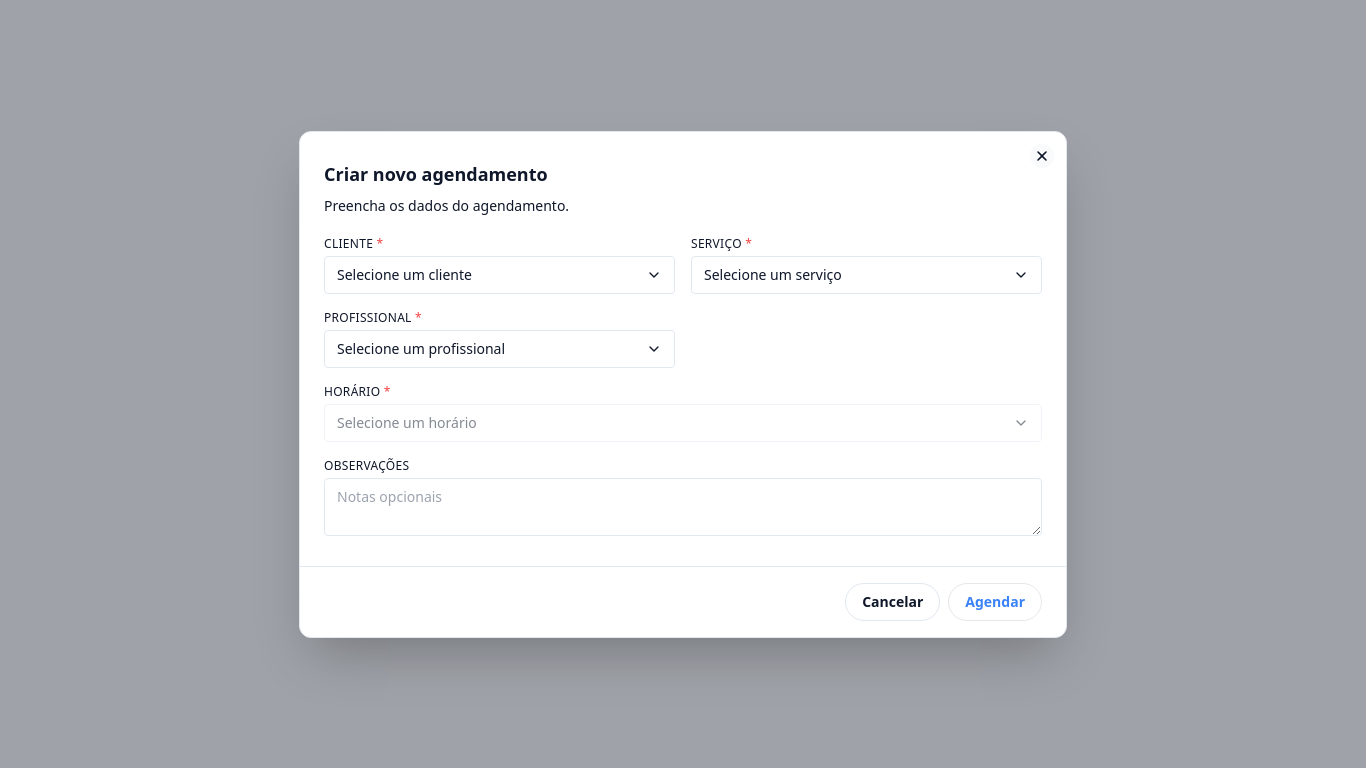
Test: AppointmentModal - seletor de horário baseado em slots disponíveis › busca os horários disponíveis do profissional escolhido e lista-os
Click the button "Selecione um profissional".
click(500, 348)  # box [324,330,675,368]
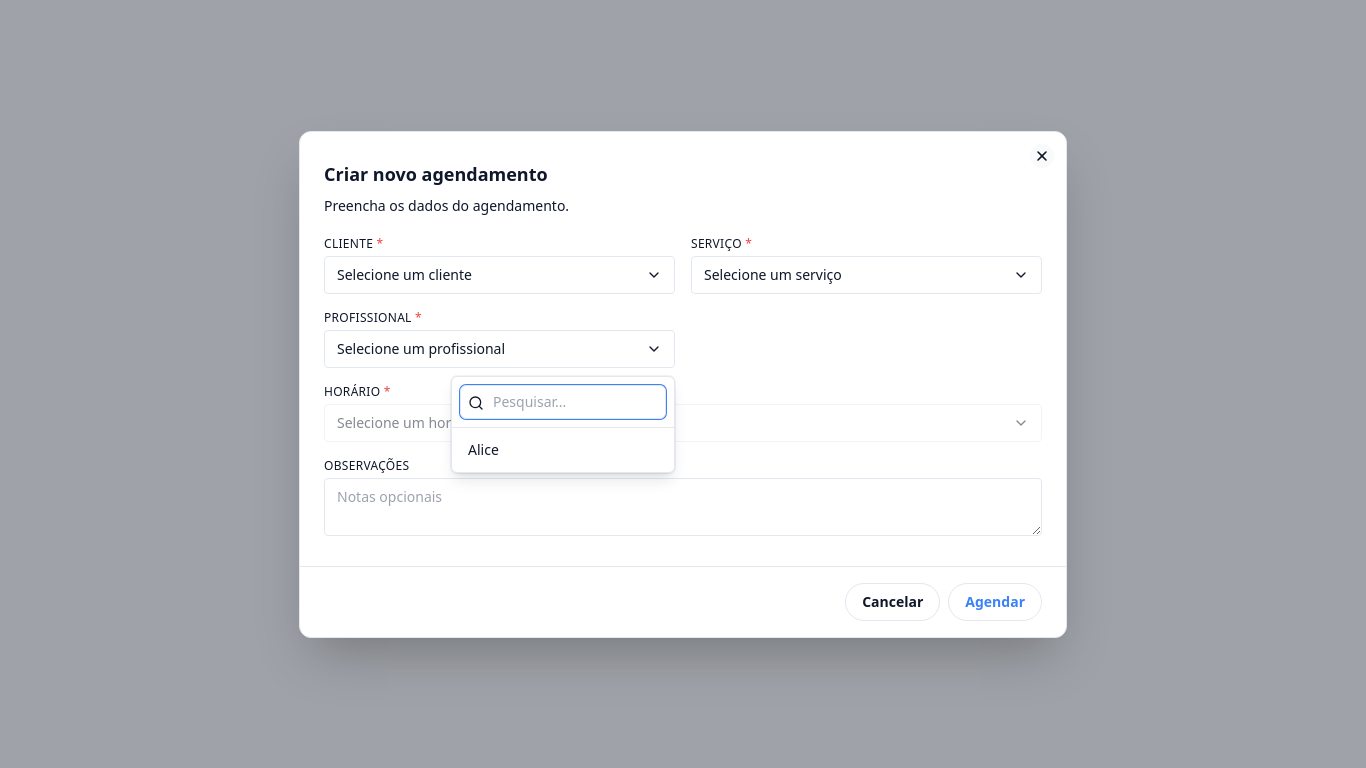
Check: the field with placeholder "Pesquisar..." is shown, box [460,384,666,418]
Click the button "Alice".
click(563, 450)  # box [452,432,674,468]
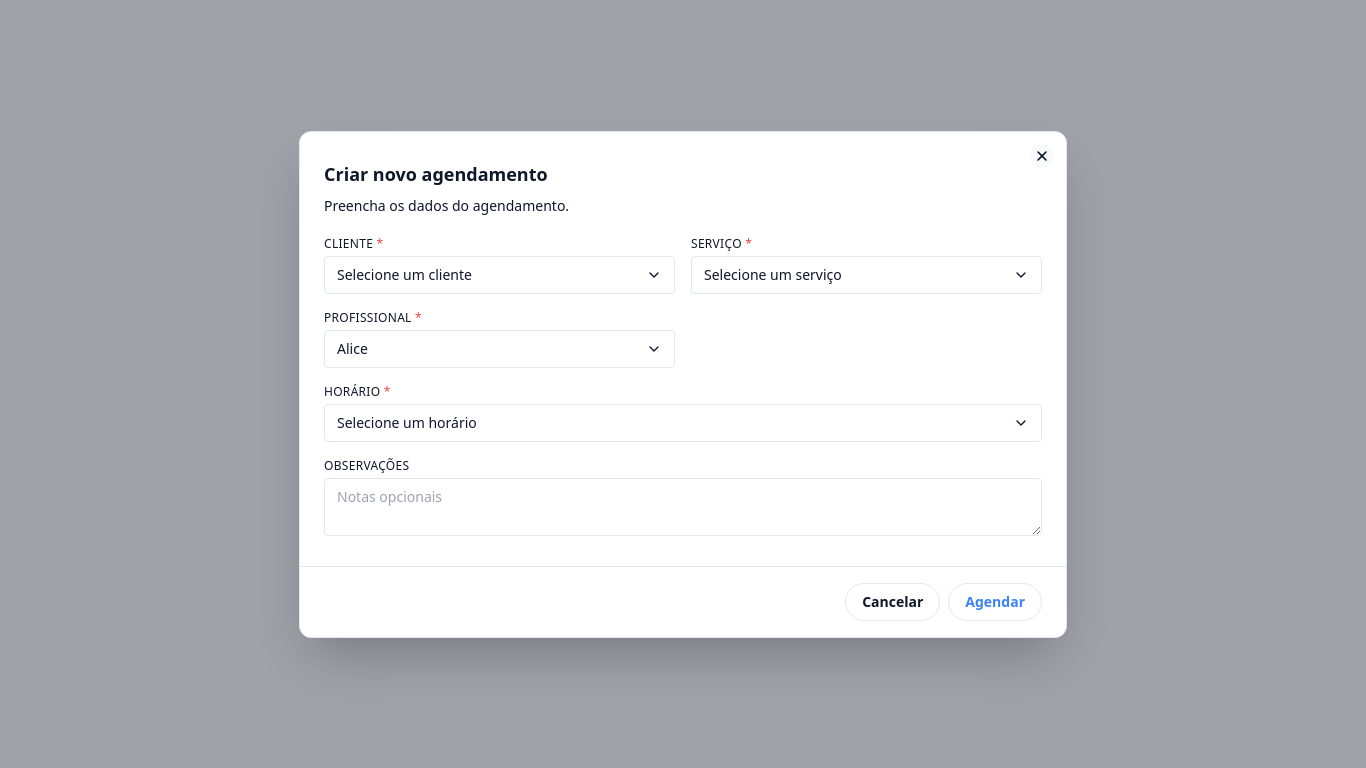
Check: the button "Selecione um horário" is enabled
Click the button "Selecione um horário".
click(407, 422)  # box [324,404,1042,442]
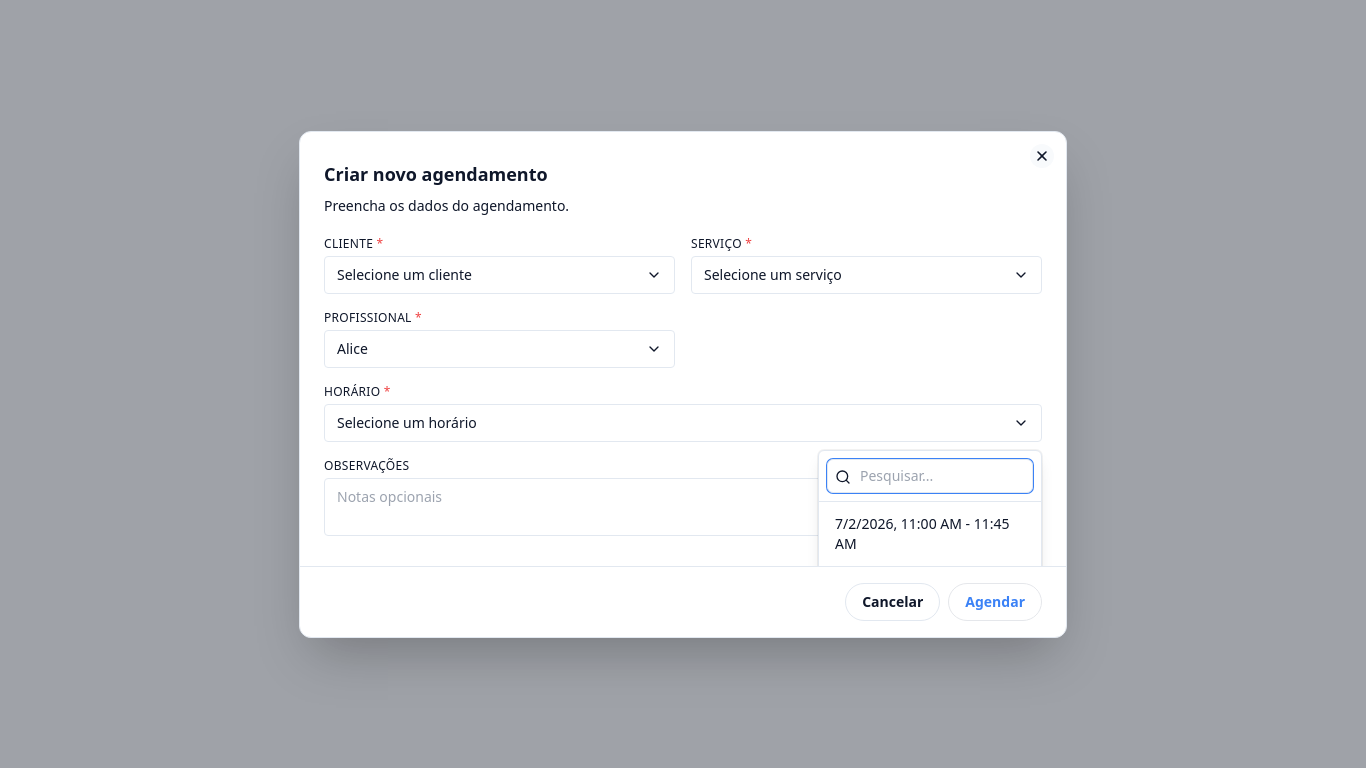
Check: the field with placeholder "Pesquisar..." is shown, box [827,458,1033,492]
